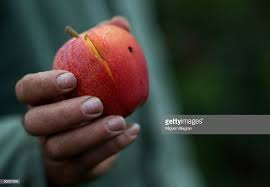damaged_apple: (52, 25, 154, 121)
